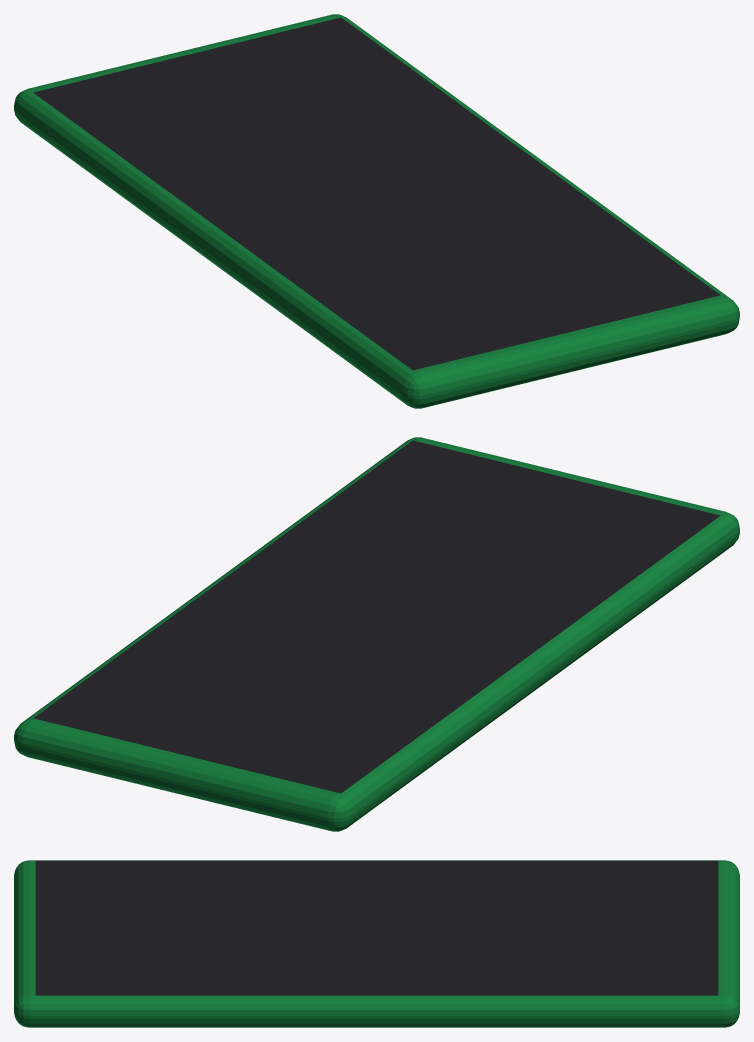
File: oneplus-nord-ce-model-259-budget-2023.glb
3 views of the same model, one above another, from view 1: azimuth 30°, elevation 25°; view 2: azimuth 150°, elevation 25°; view 3: azimuth 270°, elevation 25° (orthographic). The views are drawn at different scales.
Parts seen in each view (by area): view 1: Phone_Screen, Phone_Body; view 2: Phone_Screen, Phone_Body; view 3: Phone_Screen, Phone_Body.
Part boxes in pixels (<box>): Phone_Screen: <box>33,17,720,370</box>; Phone_Body: <box>14,14,739,408</box>; Phone_Screen: <box>33,440,720,793</box>; Phone_Body: <box>14,437,739,831</box>; Phone_Screen: <box>35,860,718,995</box>; Phone_Body: <box>14,860,739,1027</box>.
Bounding box in the file's own units: 0.0759 × 0.0075 × 0.1586.
